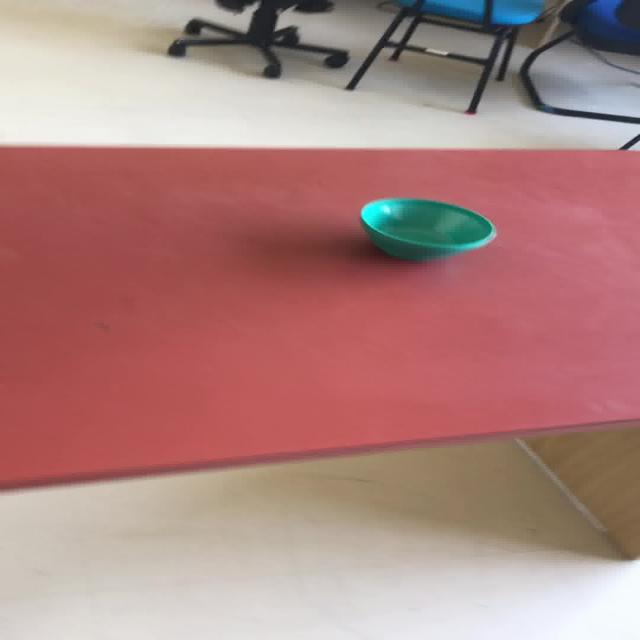bowl: (358, 196, 496, 261)
